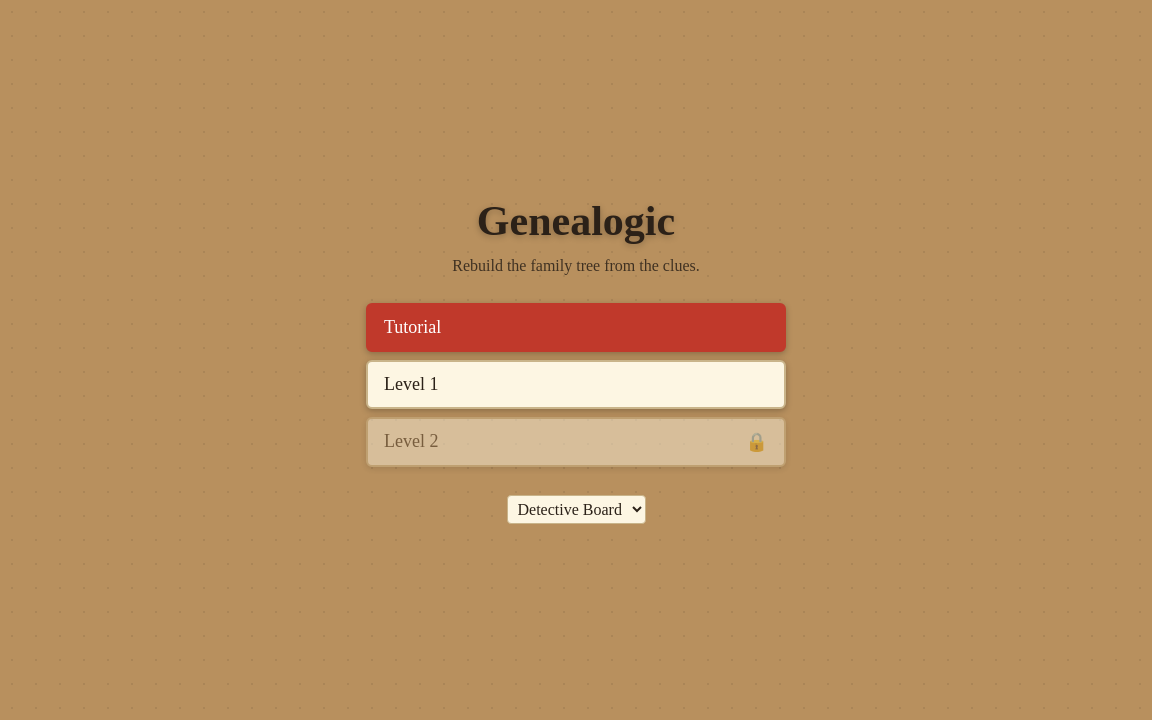
Test case: App › opens a level and plays it through to victory and next level
The image size is (1152, 720).
Click the button "Level 1" at {"x": 411, "y": 384}, box [366,360,786,408]
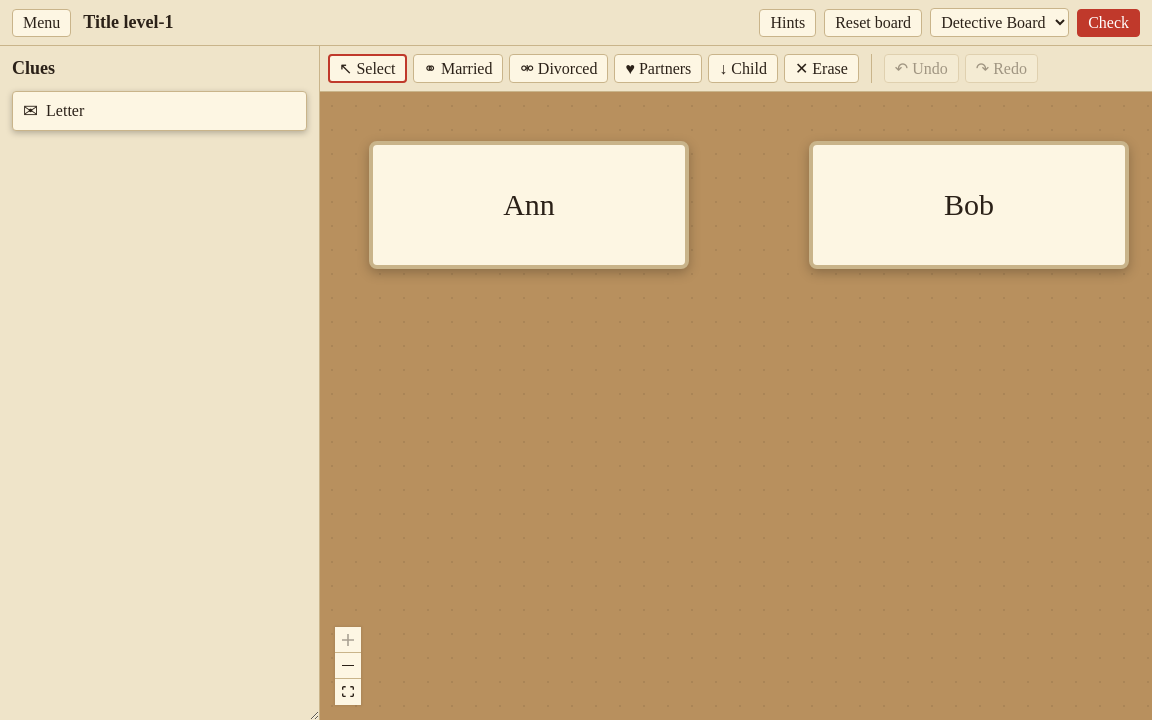
Expected: the heading "Title level-1" is shown, [83,12,173,32]
Expected: the text "Ann" is shown, [503,188,555,222]
Expected: the button "✉ Letter" is shown, [12,91,307,131]
Click the button "⚭ Married" at {"x": 458, "y": 68}, box [412,54,503,83]
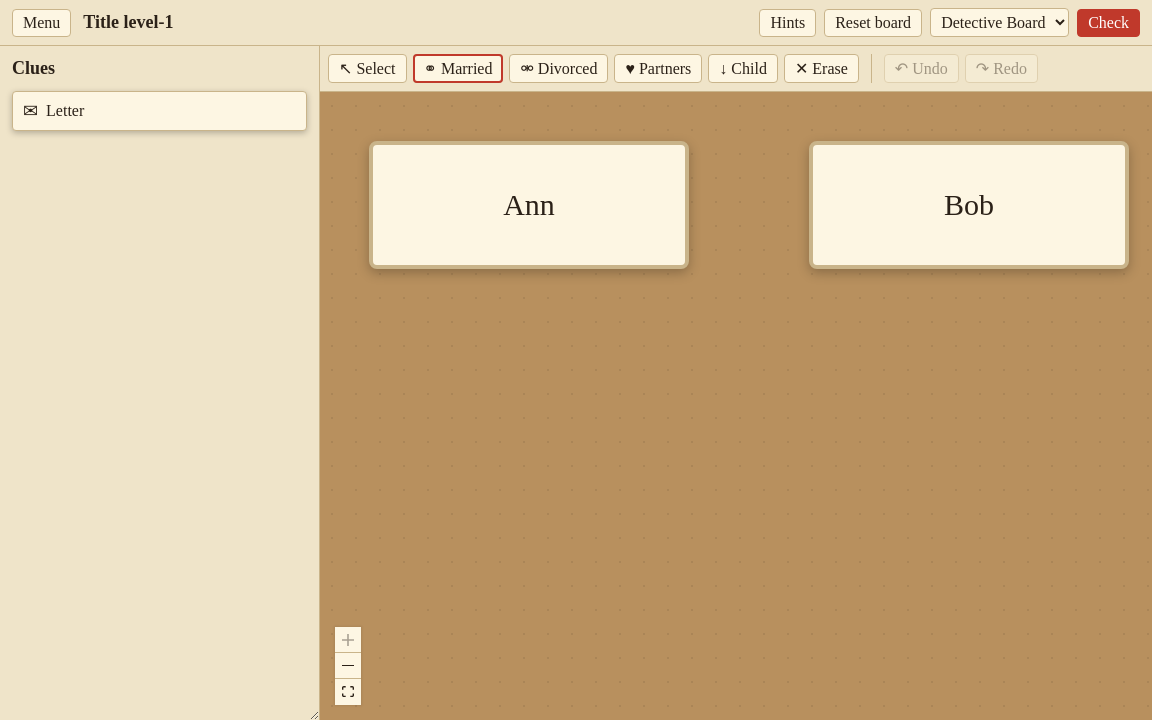
Click the text "Ann" at {"x": 529, "y": 205}, box [503,188,555,222]
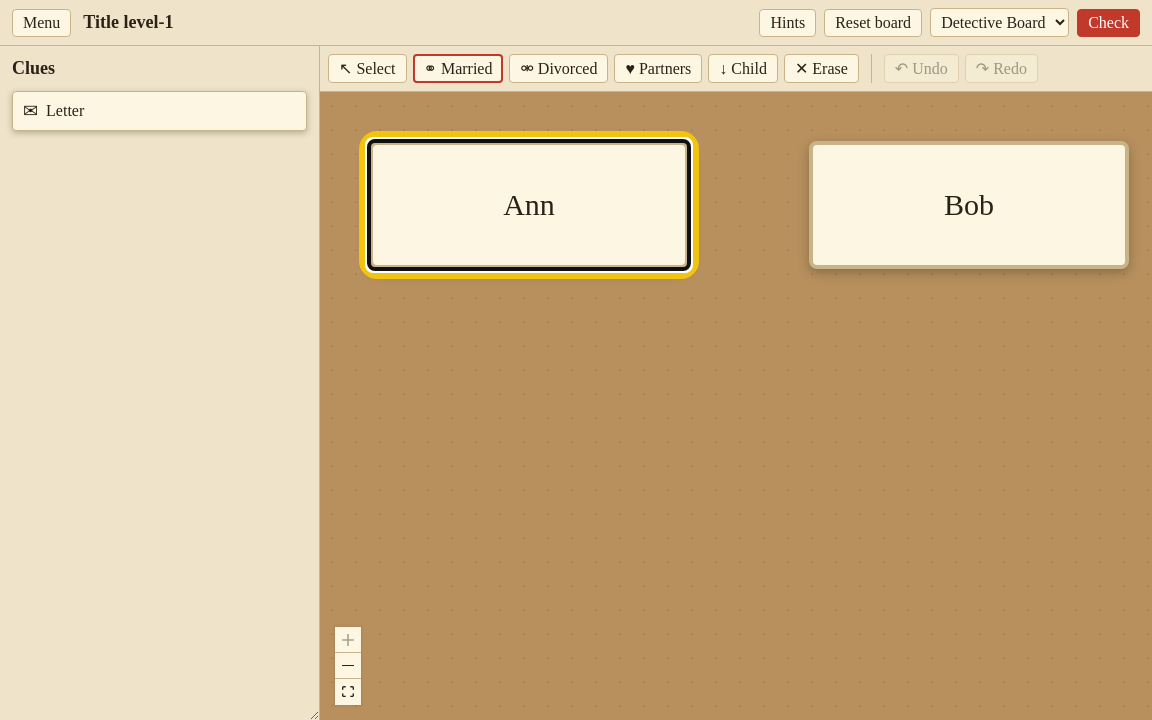
Click the text "Bob" at {"x": 969, "y": 205}, box [944,188,994,222]
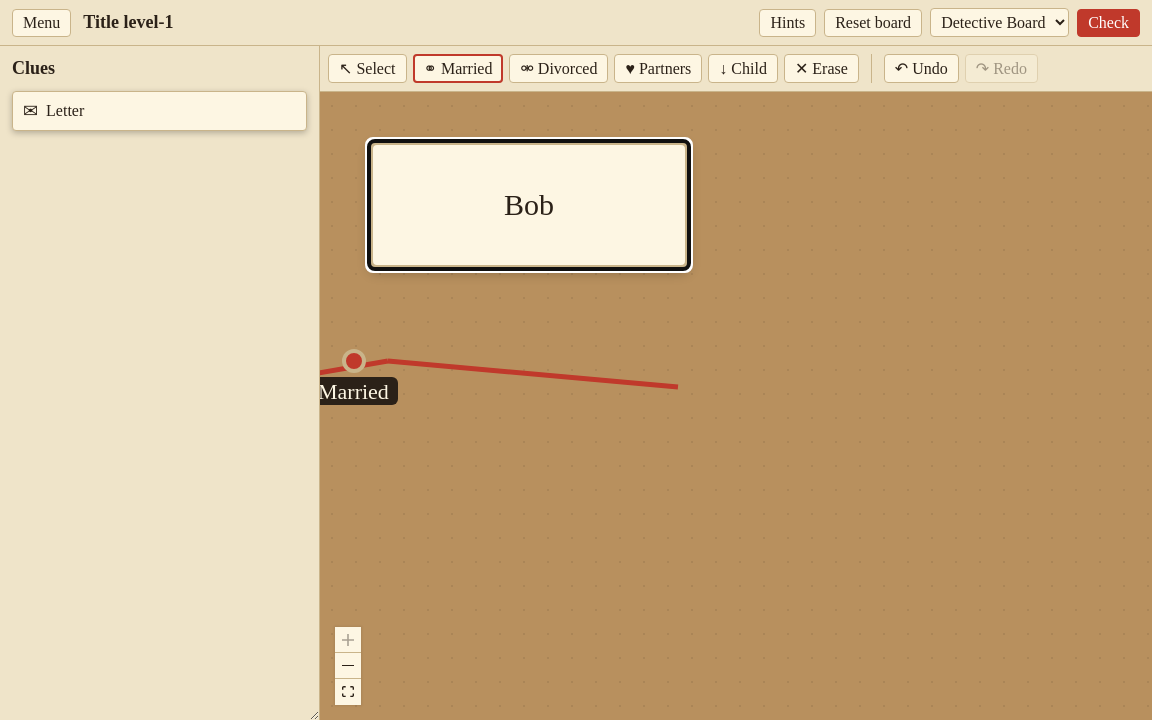
Click the button "Check" at {"x": 1109, "y": 22}, box [1077,8,1140,36]
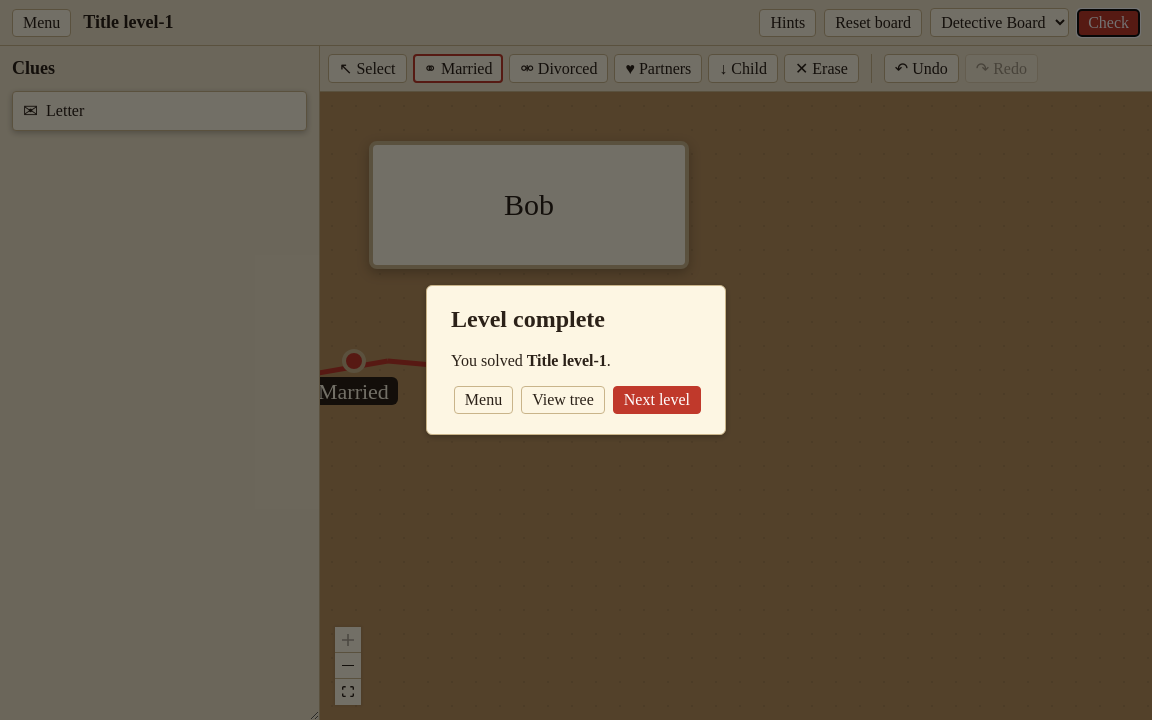
Expected: the dialog "Level complete" is shown, [426,284,726,435]
Click the button "Next level" at {"x": 657, "y": 400}, box [613,386,701,414]
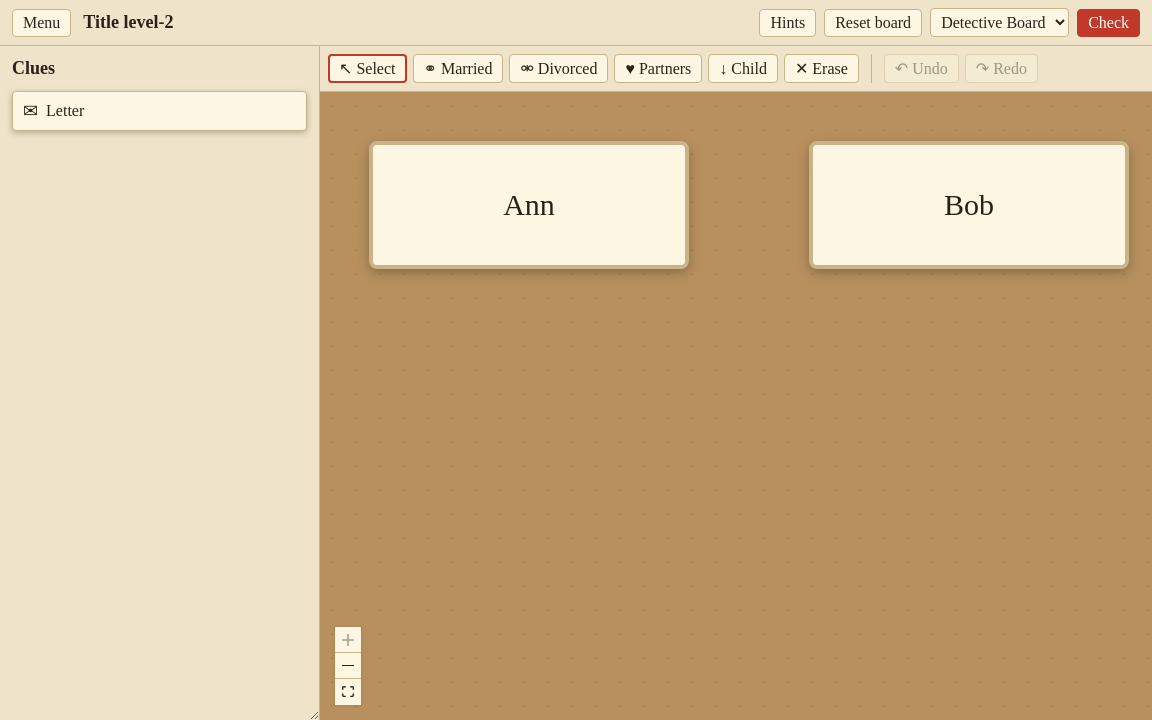
Expected: the heading "Title level-2" is shown, [83,12,173,32]
